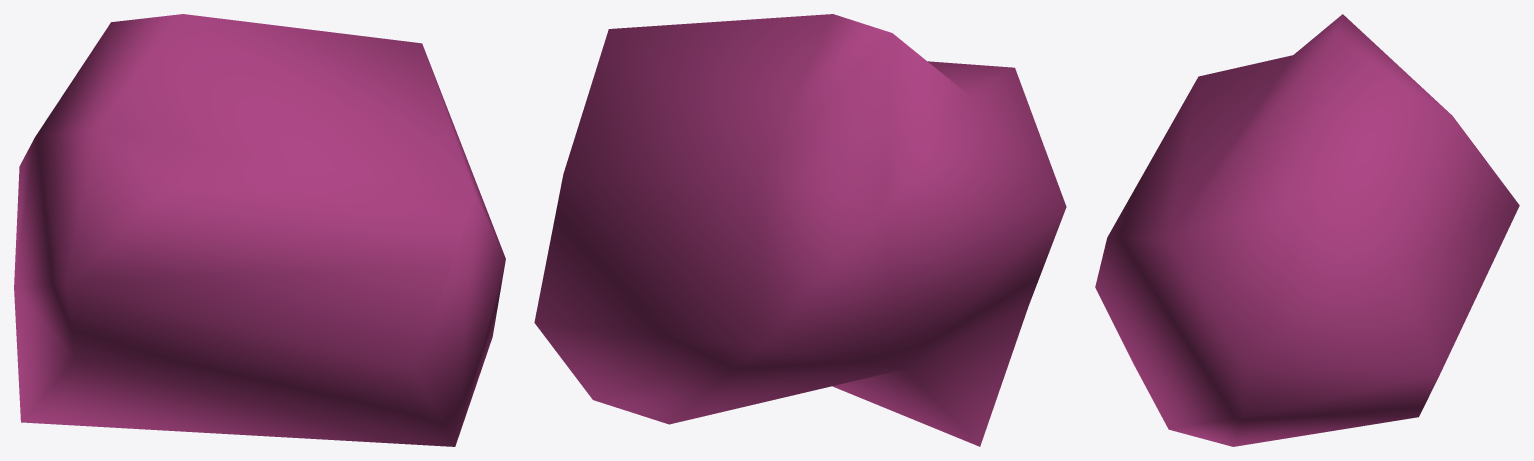
3 renders of one model, left to right at view 1: azimuth 30°, elevation 25°; view 2: azimuth 150°, elevation 25°; view 3: azimuth 270°, elevation 25°, orthographic. The views are drawn at different scales.
Bounding box in the file's own units: 0.1558 × 0.136 × 0.1619.
